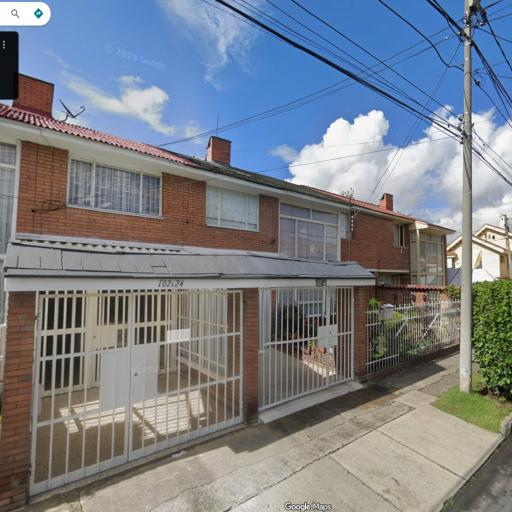Casa: (0, 107, 368, 512)
postes: (458, 0, 481, 393)
